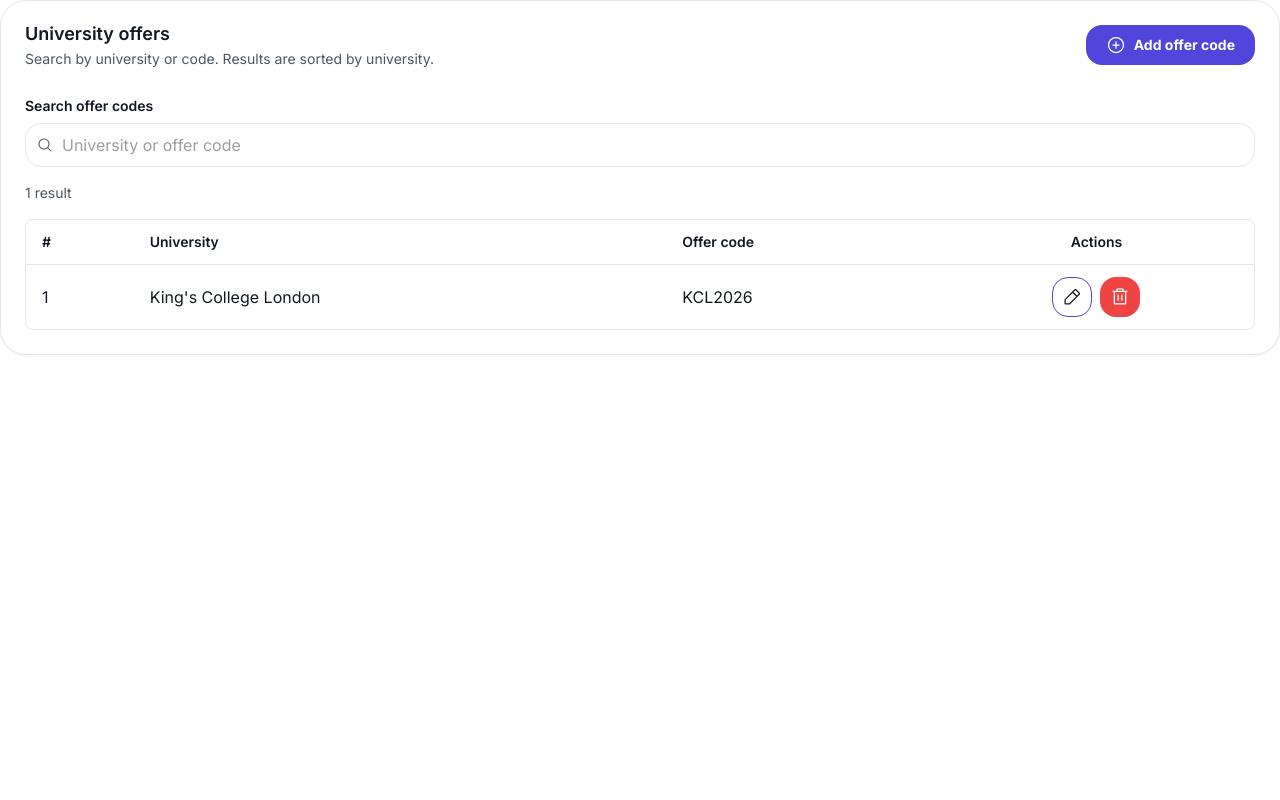
Test: OfferCodeManagement › keeps the destructive confirmation open when deletion fails
The image size is (1280, 800).
expect the text "King's College London" is shown: met, box 134,265 -> 666,329
Click the button named "Delete offer code for King's College London": [1120, 297] box 1100,277 -> 1140,317
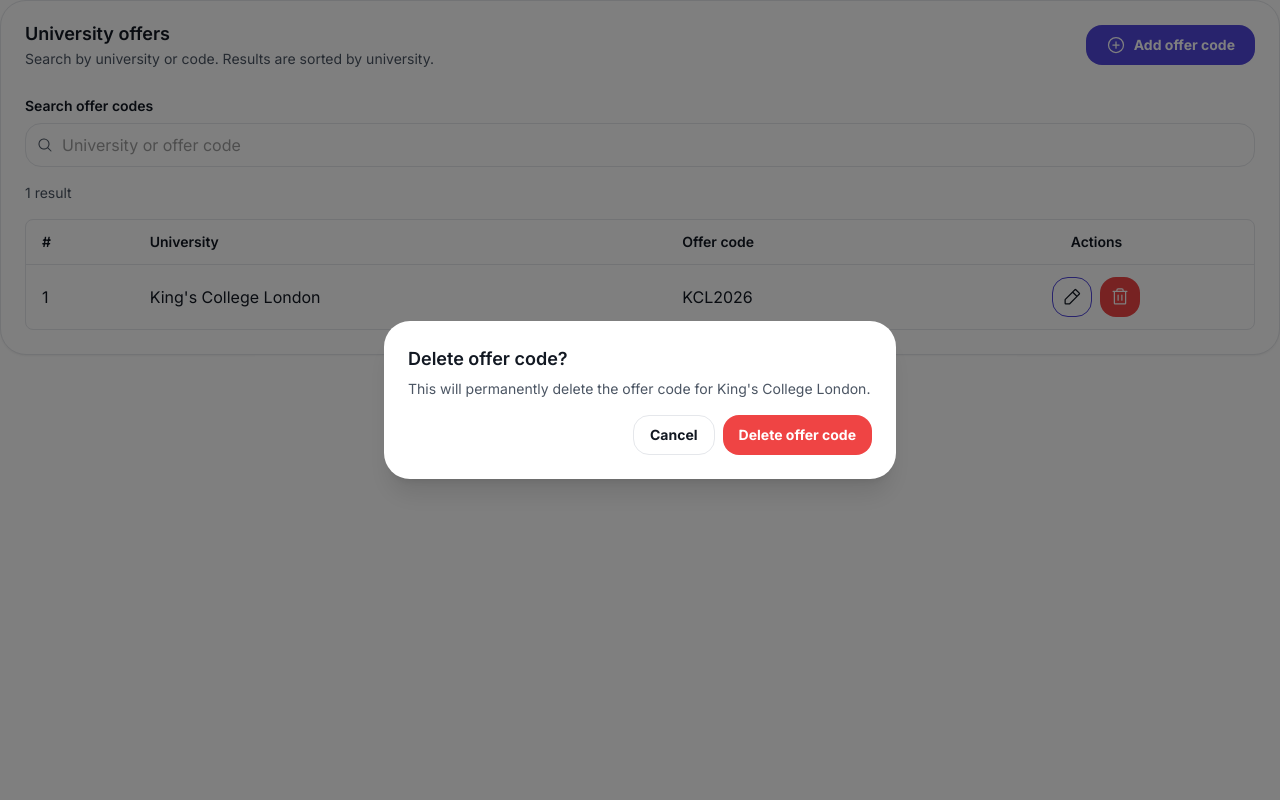
Click the button "Delete offer code": [797, 435] box 723,415 -> 872,455
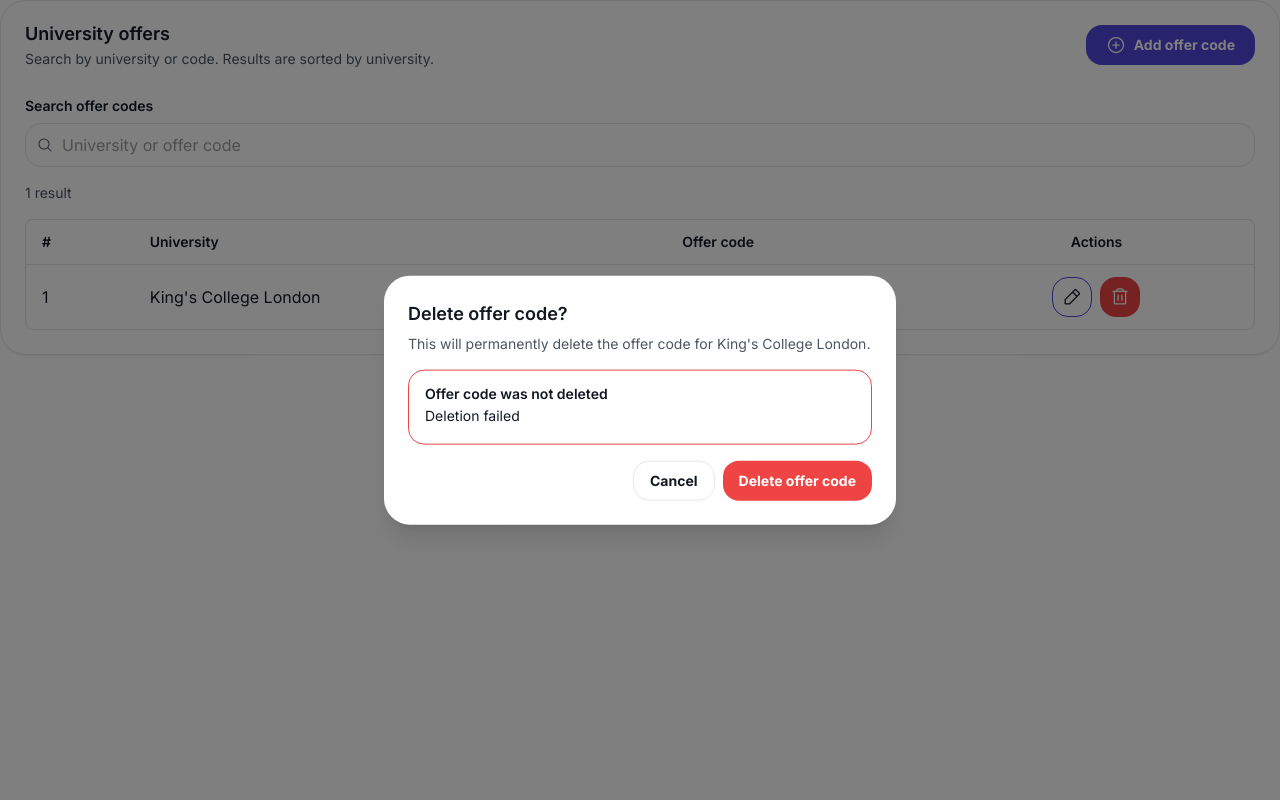
expect the dialog "Delete offer code?" is shown: met, box 384,276 -> 896,524
expect the text "Deletion failed" is shown: met, box 425,407 -> 520,424
